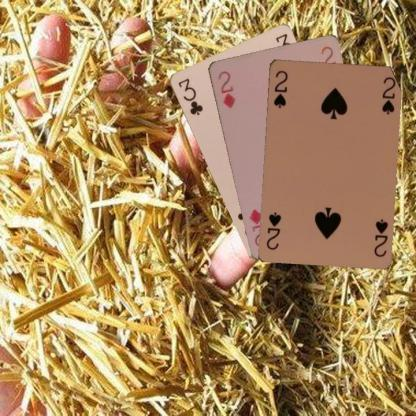2d: (214, 68, 236, 110)
2s: (271, 67, 289, 110), (371, 216, 389, 258)
3c: (175, 75, 204, 117)
